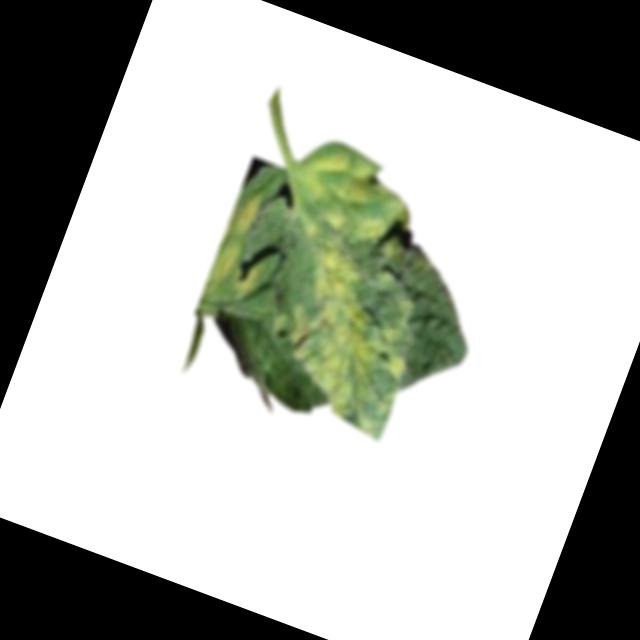Leaf_Mold: (245, 235, 438, 440), (279, 132, 431, 268), (203, 235, 244, 291), (230, 188, 264, 238), (232, 257, 261, 299)
